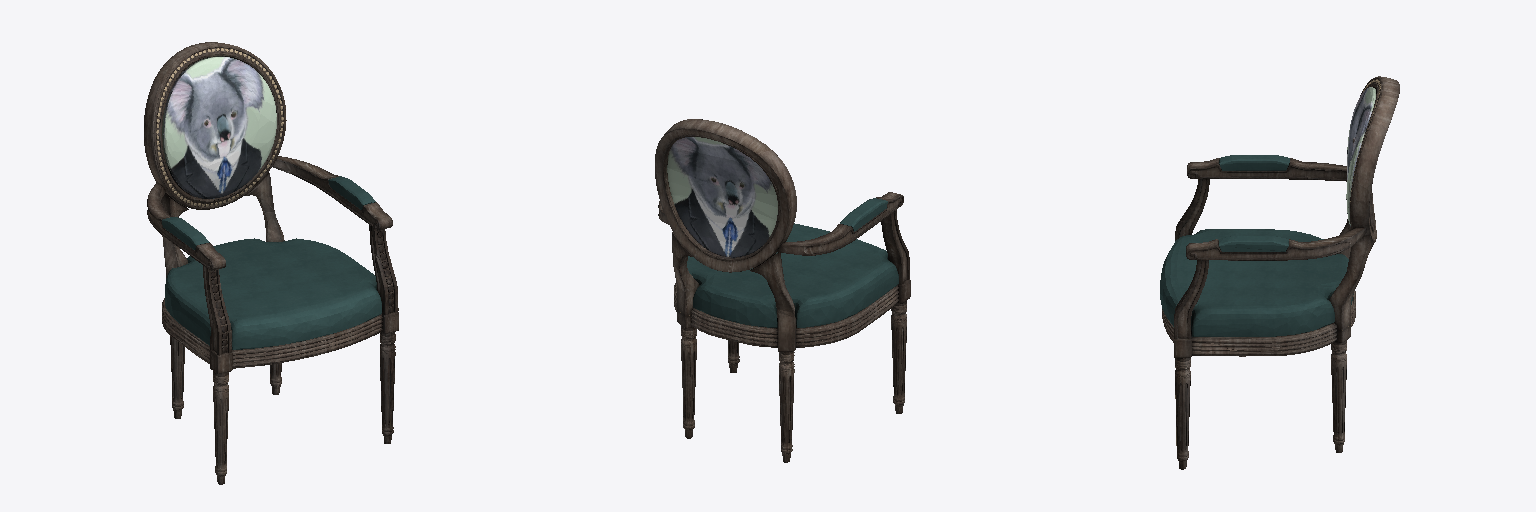
3 views of the same model, side by side, from view 1: azimuth 30°, elevation 25°; view 2: azimuth 150°, elevation 25°; view 3: azimuth 270°, elevation 25° (orthographic).
Parts seen in each view (by area): view 1: solid_001_wire; view 2: solid_001_wire; view 3: solid_001_wire.
Part boxes in pixels (x1,y1,x2,y2): solid_001_wire: (144, 42, 398, 484); solid_001_wire: (655, 119, 910, 462); solid_001_wire: (1160, 76, 1399, 469).
Bounding box in the file's own units: 0.5134 × 0.9283 × 0.5881.
1 materials, 1 textured.